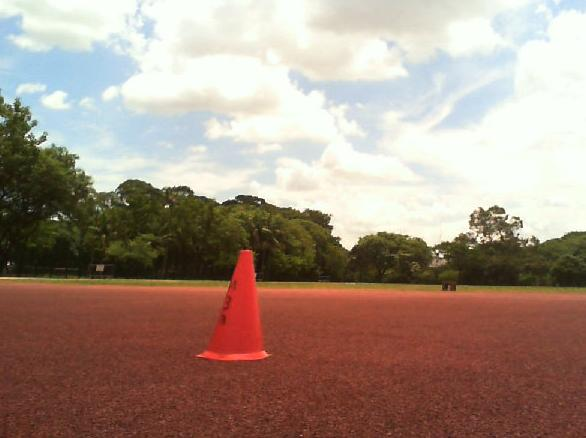0 cone: (195, 251, 268, 360)
